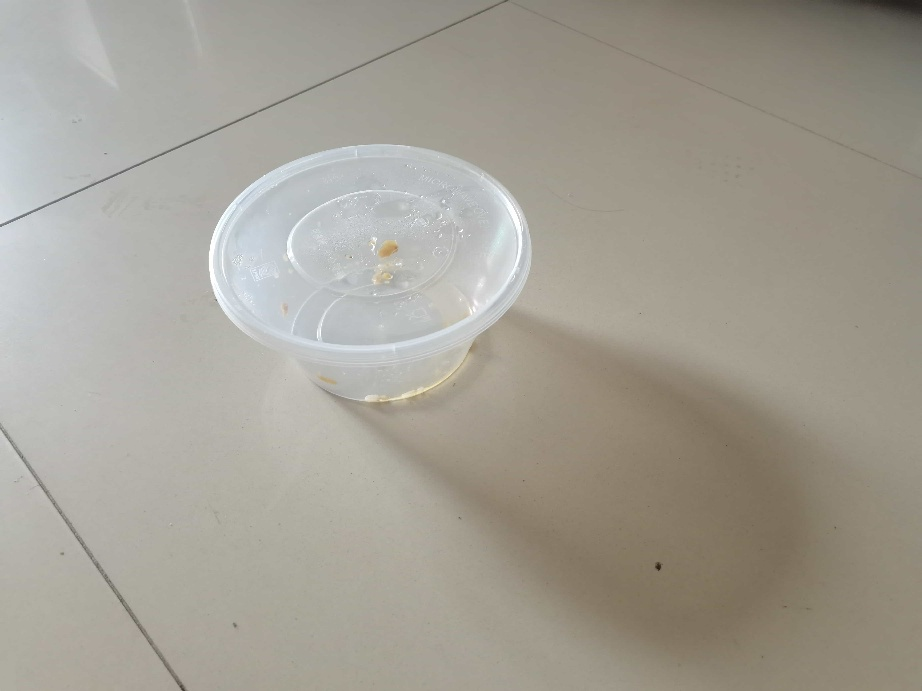fastfood box: (203, 139, 538, 408)
